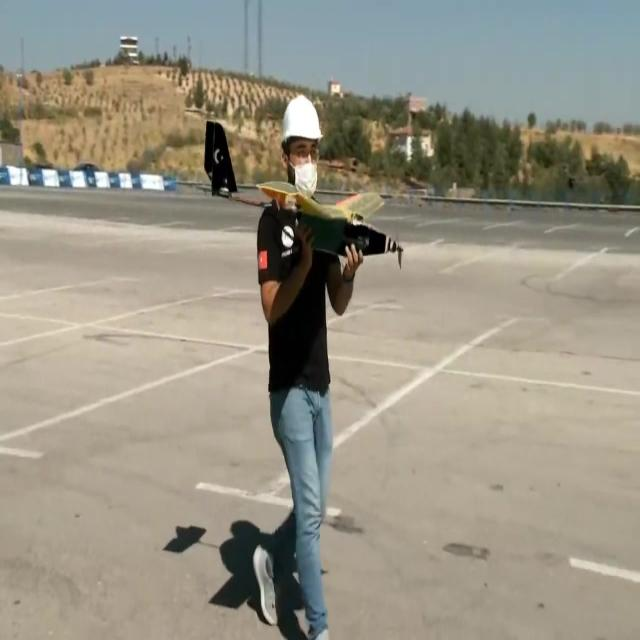iha: (197, 118, 405, 272)
